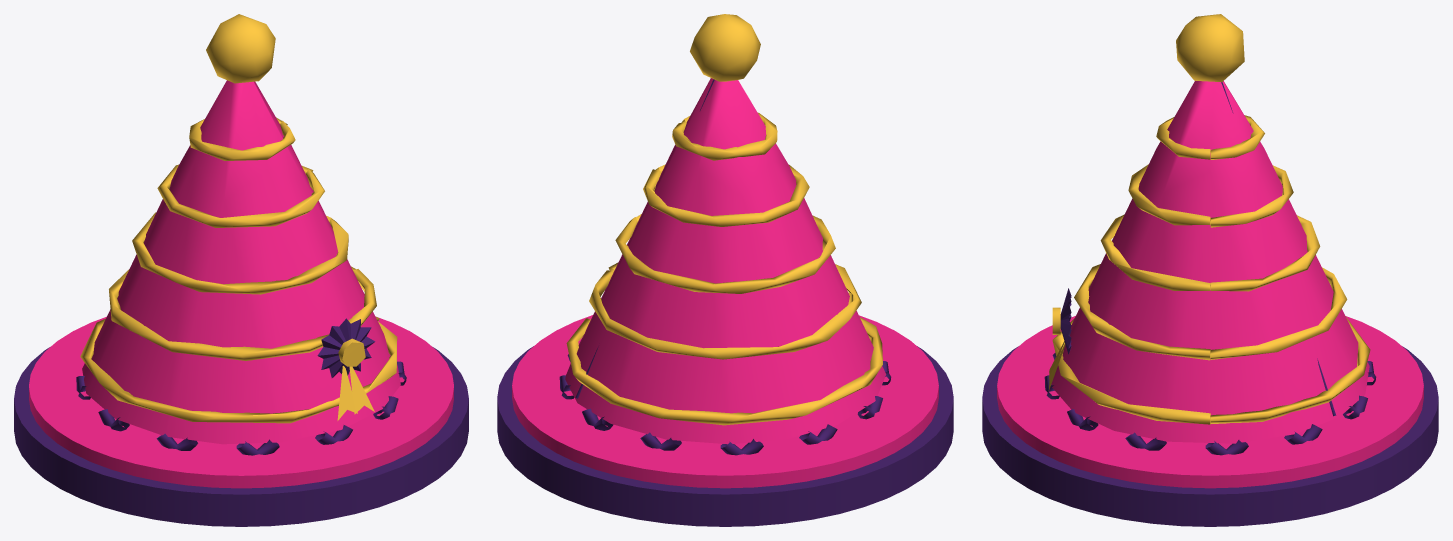
File: desk.hat.party.lod1.glb
The picture shows the model from 3 angles, left to right: view 1: azimuth 30°, elevation 25°; view 2: azimuth 150°, elevation 25°; view 3: azimuth 270°, elevation 25°; orthographic projection.
Parts seen in each view (by area): view 1: party_cone, stand_trim, stand_base, party_braid, party_braid.001, pom_pom, party_braid.002, party_braid.003, party_braid.004, pleated_rosette, rosette_button, ribbon_tail; view 2: party_cone, stand_trim, stand_base, party_braid, party_braid.001, pom_pom, party_braid.002, party_braid.003, party_braid.004; view 3: party_cone, stand_trim, stand_base, party_braid, party_braid.001, pom_pom, party_braid.002, party_braid.003, party_braid.004.
Part boxes in pixels (bbox=[...]): party_cone: bbox=[82, 80, 400, 444]; stand_trim: bbox=[29, 317, 453, 488]; stand_base: bbox=[14, 347, 468, 526]; party_braid: bbox=[80, 317, 397, 423]; party_braid.001: bbox=[109, 266, 376, 360]; pom_pom: bbox=[206, 14, 275, 83]; party_braid.002: bbox=[132, 212, 348, 294]; party_braid.003: bbox=[157, 164, 324, 227]; party_braid.004: bbox=[189, 117, 295, 160]; pleated_rosette: bbox=[317, 318, 375, 377]; rosette_button: bbox=[338, 338, 365, 366]; ribbon_tail: bbox=[337, 366, 357, 420]; party_cone: bbox=[565, 78, 886, 444]; stand_trim: bbox=[512, 315, 938, 488]; stand_base: bbox=[497, 346, 953, 526]; party_braid: bbox=[566, 317, 882, 425]; party_braid.001: bbox=[589, 262, 861, 359]; pom_pom: bbox=[690, 14, 760, 81]; party_braid.002: bbox=[615, 214, 835, 293]; party_braid.003: bbox=[643, 164, 809, 226]; party_braid.004: bbox=[672, 112, 777, 160]; party_cone: bbox=[1051, 81, 1369, 443]; stand_trim: bbox=[997, 316, 1423, 488]; stand_base: bbox=[982, 346, 1438, 526]; party_braid: bbox=[1052, 316, 1370, 424]; party_braid.001: bbox=[1074, 264, 1347, 360]; pom_pom: bbox=[1176, 14, 1244, 81]; party_braid.002: bbox=[1100, 214, 1320, 291]; party_braid.003: bbox=[1128, 164, 1293, 227]; party_braid.004: bbox=[1156, 115, 1264, 159].
Bounding box in the file's own units: 0.48 × 0.4811 × 0.48.
